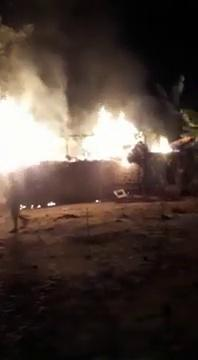fire: (3, 105, 64, 168), (91, 115, 135, 155)
smoke: (47, 25, 110, 80)
